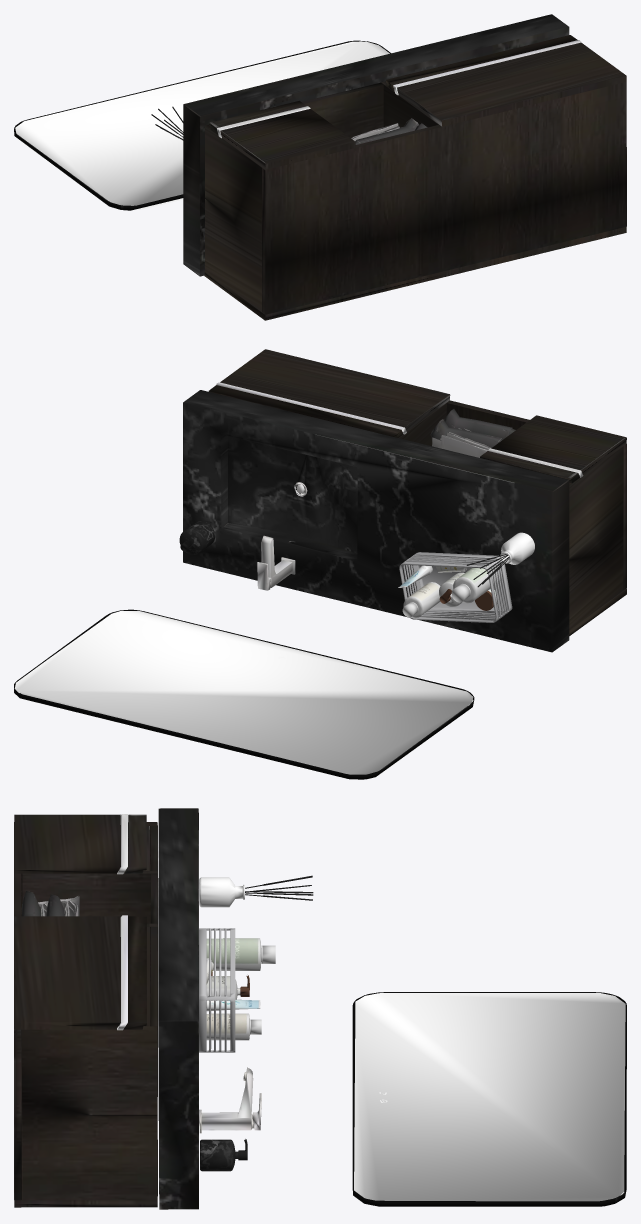
File: basin_mirror.glb
3 views of the same model, one above another, from view 1: azimuth 30°, elevation 25°; view 2: azimuth 150°, elevation 25°; view 3: azimuth 270°, elevation 25° (orthographic). The views are drawn at different scales.
Visible parts, largest first — view 1: basin + furniture, mirror, towel; view 2: basin + furniture, mirror, Cube.004, towel, Cylinder.006, Cylinder.005, Sphere.003, Cylinder.011; view 3: basin + furniture, mirror, Cube.004, Cylinder.006, Sphere.003, Cylinder.011, towel, Cylinder.005, Cylinder.008, Cylinder.004.
Boxes of the visible parts, <box> form: basin + furniture: <box>183,14,626,320</box>; mirror: <box>14,40,390,210</box>; towel: <box>351,118,427,144</box>; basin + furniture: <box>183,349,626,652</box>; mirror: <box>14,609,474,779</box>; Cube.004: <box>399,552,512,622</box>; towel: <box>430,409,515,457</box>; Cylinder.006: <box>451,564,501,603</box>; Cylinder.005: <box>402,582,440,618</box>; Sphere.003: <box>179,521,215,554</box>; Cylinder.011: <box>500,532,534,564</box>; basin + furniture: <box>14,808,261,1209</box>; mirror: <box>352,992,626,1206</box>; Cube.004: <box>199,928,235,1052</box>; Cylinder.006: <box>206,938,275,970</box>; Sphere.003: <box>200,1139,247,1171</box>; Cylinder.011: <box>199,877,244,907</box>; towel: <box>21,890,79,916</box>; Cylinder.005: <box>206,1013,261,1040</box>; Cylinder.008: <box>245,875,313,900</box>; Cylinder.004: <box>206,975,249,999</box>.
Bounding box in the file's own units: 1.25 × 0.5177 × 1.52.
Materials: 14 (12 with a texture image).
